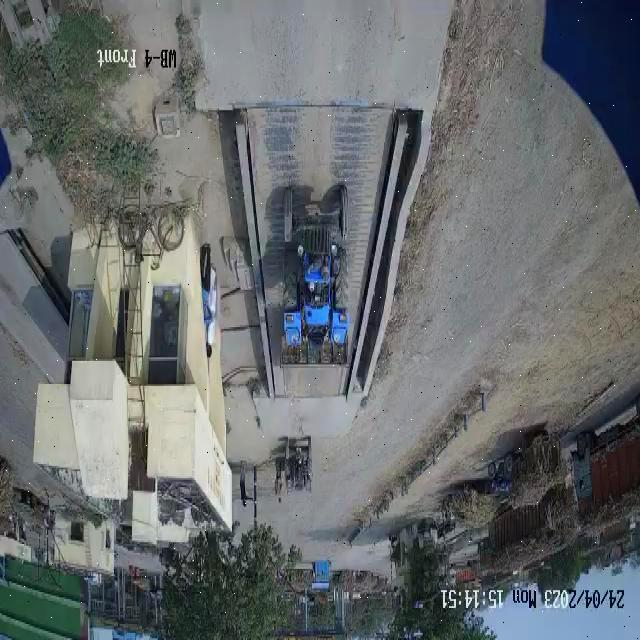Tratores - v5 YOLO V8L 2024-11-13: (279, 178, 352, 348), (282, 430, 316, 495), (487, 448, 521, 501)
